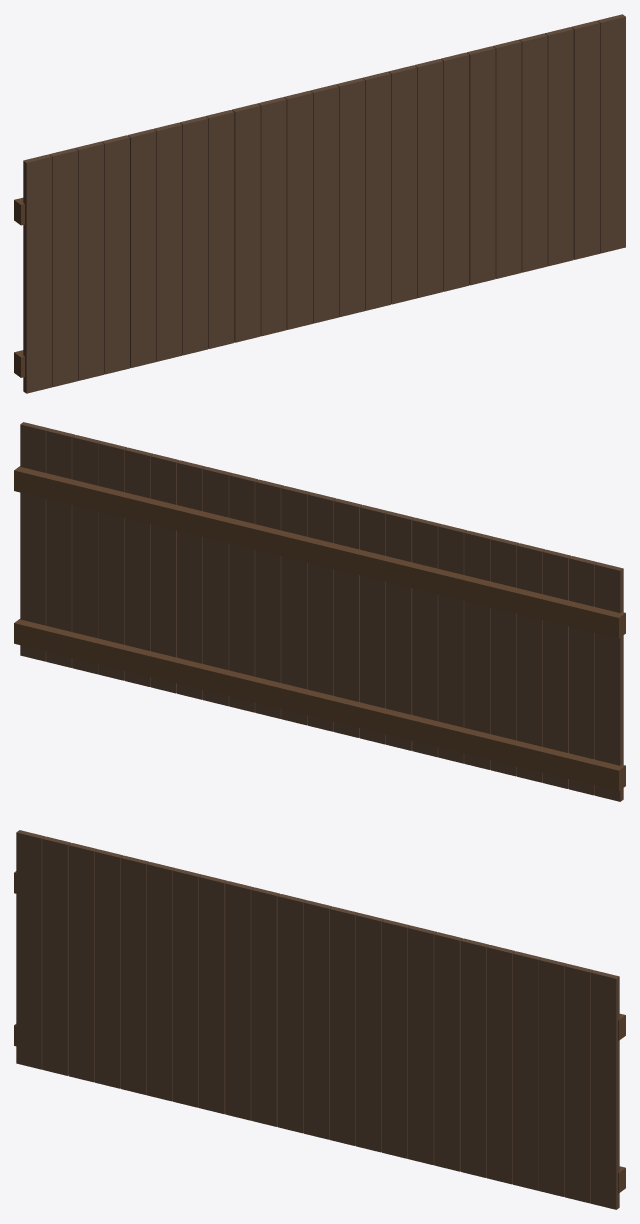
The model's file is Wooden_Fence.fbx.
3 views of the same model, one above another, from view 1: azimuth 30°, elevation 25°; view 2: azimuth 150°, elevation 25°; view 3: azimuth 330°, elevation 25° (orthographic).
Visible parts, largest first — view 1: pCube27; view 2: pCube27, pCube1, pCube2; view 3: pCube27.
Part boxes in pixels (left/top/right/bottom): pCube27: left=23, top=14, right=625, bottom=393; pCube27: left=20, top=422, right=623, bottom=801; pCube1: left=14, top=619, right=625, bottom=791; pCube2: left=14, top=466, right=625, bottom=638; pCube27: left=16, top=830, right=619, bottom=1209.
Bounding box in the file's own units: 10 × 3.65 × 0.2475.
